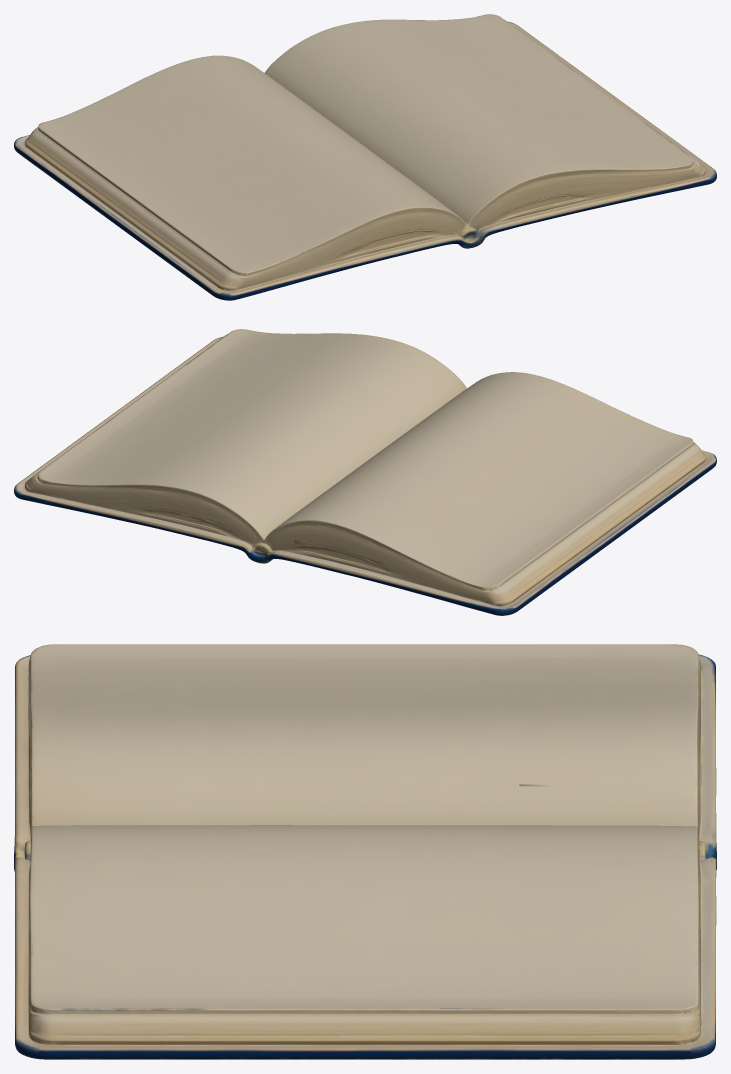
Rendered from hunyuan-notebook-40k.glb.
The picture shows the model from 3 angles, top to bottom: view 1: azimuth 30°, elevation 25°; view 2: azimuth 150°, elevation 25°; view 3: azimuth 270°, elevation 25°; orthographic projection. The views are drawn at different scales.
Parts seen in each view (by area): view 1: material; view 2: material; view 3: material.
Part boxes in pixels (x1=…): material: x1=14, y1=14, x2=716, y2=300; material: x1=14, y1=329, x2=716, y2=615; material: x1=14, y1=644, x2=716, y2=1059.
Size of the model in its own units: 0.9813 by 0.101 by 0.7322.
Materials: 1 (1 with a texture image).
